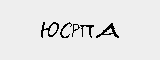Д: (97, 10, 124, 36)
Н: (22, 13, 42, 33)
П: (41, 12, 56, 32)
Т: (123, 8, 145, 32)
Э: (73, 10, 93, 31)
Қ: (56, 10, 75, 32)
